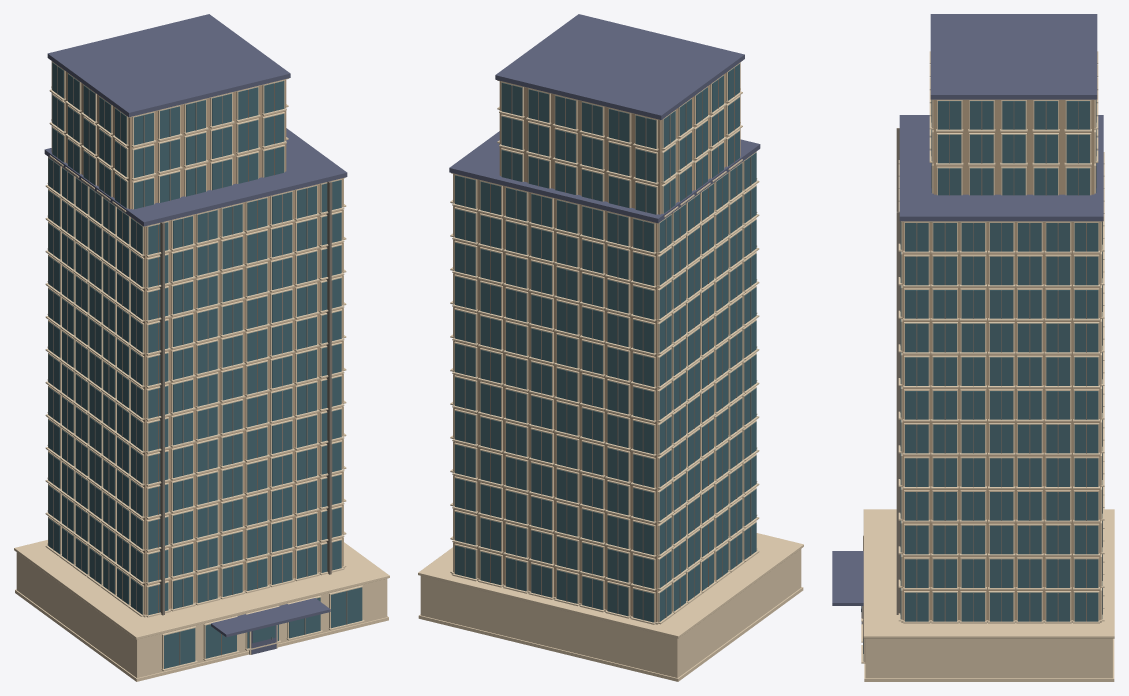
File: office-tower.glb
3 renders of one model, left to right at view 1: azimuth 30°, elevation 25°; view 2: azimuth 150°, elevation 25°; view 3: azimuth 270°, elevation 25°, orthographic. The views are drawn at different scales.
Parts seen in each view (by area): view 1: office-tower; view 2: office-tower; view 3: office-tower.
Boxes of the visible parts, x1=… form: office-tower: x1=14, y1=14, x2=389, y2=681; office-tower: x1=418, y1=14, x2=803, y2=681; office-tower: x1=832, y1=14, x2=1114, y2=681.
Size of the model in its own units: 24.3 by 49.4 by 22.85.
